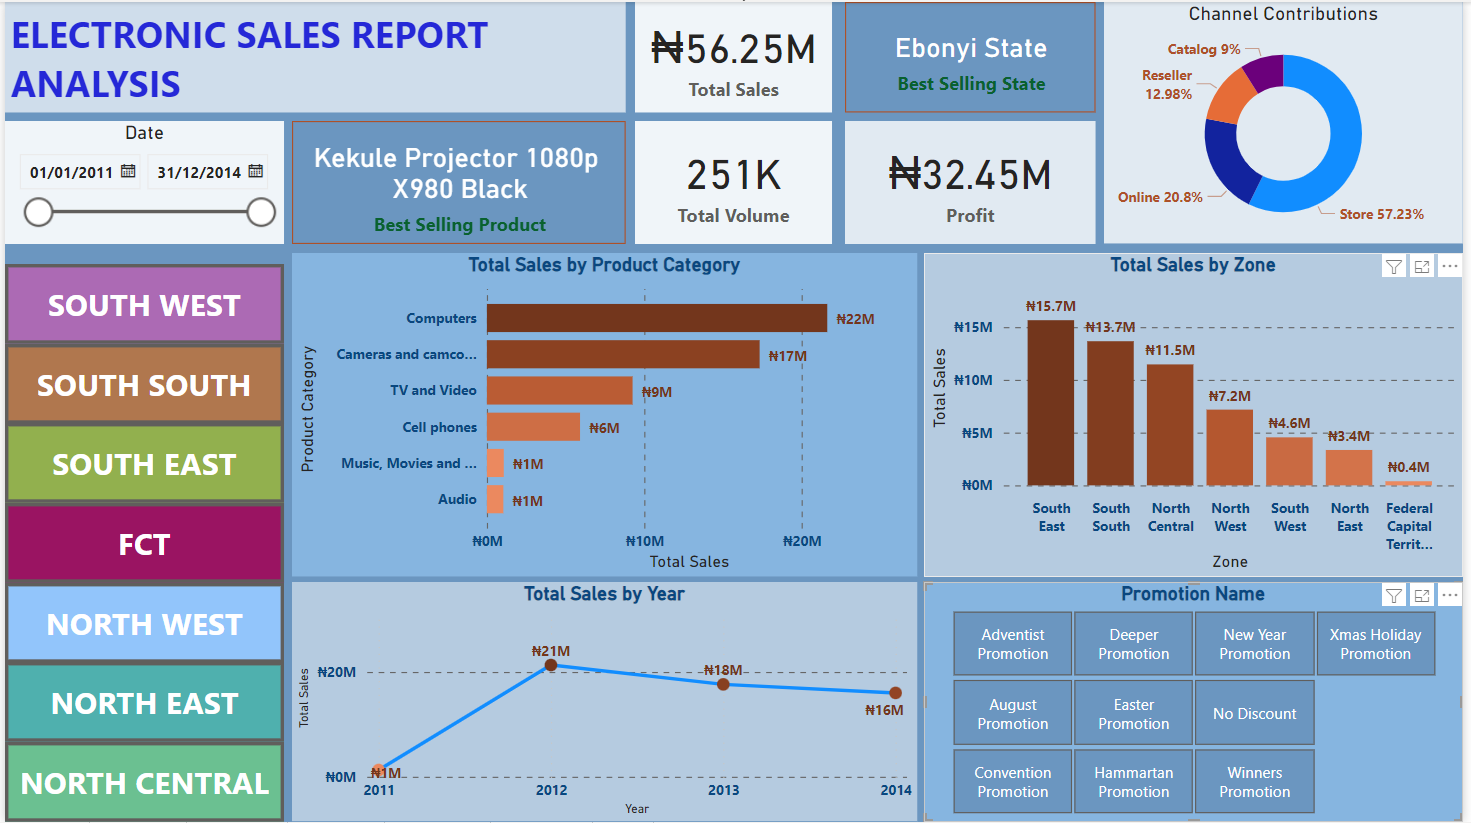

The page's visual inventory and layout, read from the dashboard file:
{"tool":"powerbi","page":{"name":"Summary","canvas":[1280,720],"ordinal":0},"visuals":[{"type":"card","fields":{"Values":["Measures (2).Total Sales"]},"box":[553.4,0,173.1,97.3],"z":0},{"type":"card","fields":{"Values":["Measures (2).Profit"]},"box":[737.3,104.1,219.8,108],"z":1000},{"type":"card","fields":{"Values":["Sum(Sales_Details.Order Qty)"]},"box":[553.4,104.1,173.1,108],"z":2000},{"type":"slicer","title":"Date","fields":{"Values":["DateKey.Date"]},"box":[0,104.1,245.1,108],"z":3000},{"type":"clusteredBarChart","fields":{"Category":["Sales_Details.Product Category","Sales_Details.Product Sub Category","Sales_Details.Product Name"],"Y":["Measures (2).Total Sales"]},"box":[251.9,220.8,548.6,284],"z":4000},{"type":"clusteredColumnChart","fields":{"Y":["Measures (2).Total Sales"],"Category":["Sales_Details.Zone"]},"box":[807.3,220.8,472.7,284],"z":5000},{"type":"card","fields":{"Values":["Measures (2).Dynamic Title"]},"box":[737.3,0,219.8,97.3],"z":6000},{"type":"donutChart","title":"Channel Contributions","fields":{"Y":["Measures (2).Total Sales"],"Category":["Sales_Details.Channel"]},"box":[964.9,0,315.1,212],"z":7000},{"type":"slicer","title":"Promotion Name","fields":{"Values":["Sales_Details.Promotion Name"]},"box":[807.3,509.7,472.7,210.1],"z":8000},{"type":"lineChart","fields":{"Y":["Measures (2).Total Sales"],"Category":["DateKey.Year","DateKey.Quarters","DateKey.QuarterYear"]},"box":[251.9,509.7,548.6,210.1],"z":9000},{"type":"card","fields":{"Values":["Measures (2).Dynamic Title 2"]},"box":[251.9,104.1,292.8,108],"z":10000},{"type":"textbox","box":[0,0,544.7,97.3],"z":11000},{"type":"actionButton","title":"NORTH CENTRAL","box":[0,649.6,244.7,69.9],"z":12000},{"type":"actionButton","box":[0,300,244.7,69.9],"z":13000},{"type":"actionButton","box":[0,369.9,244.7,69.9],"z":14000},{"type":"actionButton","box":[0,439.8,244.7,69.9],"z":15000},{"type":"actionButton","box":[0,509.7,244.7,69.9],"z":16000},{"type":"actionButton","box":[0,579.7,244.7,69.9],"z":17000},{"type":"actionButton","box":[0,230.1,244.7,69.9],"z":18000}]}

Visuals, with their boxes in screenshot pixels (x1, y1, x2, y2), scaled from the page's 1280x720 canvas onto the 1471x823 screenshot:
card - Measures (2).Total Sales: x1=636 y1=0 x2=835 y2=111
card - Measures (2).Profit: x1=847 y1=119 x2=1100 y2=242
card - Sum(Sales_Details.Order Qty): x1=636 y1=119 x2=835 y2=242
"Date" slicer: x1=0 y1=119 x2=282 y2=242
clusteredBarChart - Sales_Details.Product Category x Sales_Details.Product Sub Category: x1=289 y1=252 x2=920 y2=577
clusteredColumnChart - Measures (2).Total Sales x Sales_Details.Zone: x1=928 y1=252 x2=1470 y2=577
card - Measures (2).Dynamic Title: x1=847 y1=0 x2=1100 y2=111
"Channel Contributions" donutChart: x1=1109 y1=0 x2=1470 y2=242
"Promotion Name" slicer: x1=928 y1=583 x2=1470 y2=822
lineChart - Measures (2).Total Sales x DateKey.Year: x1=289 y1=583 x2=920 y2=822
card - Measures (2).Dynamic Title 2: x1=289 y1=119 x2=626 y2=242
textbox: x1=0 y1=0 x2=626 y2=111
"NORTH CENTRAL" actionButton: x1=0 y1=743 x2=281 y2=822
actionButton: x1=0 y1=343 x2=281 y2=423
actionButton: x1=0 y1=423 x2=281 y2=503
actionButton: x1=0 y1=503 x2=281 y2=583
actionButton: x1=0 y1=583 x2=281 y2=663
actionButton: x1=0 y1=663 x2=281 y2=743
actionButton: x1=0 y1=263 x2=281 y2=343
